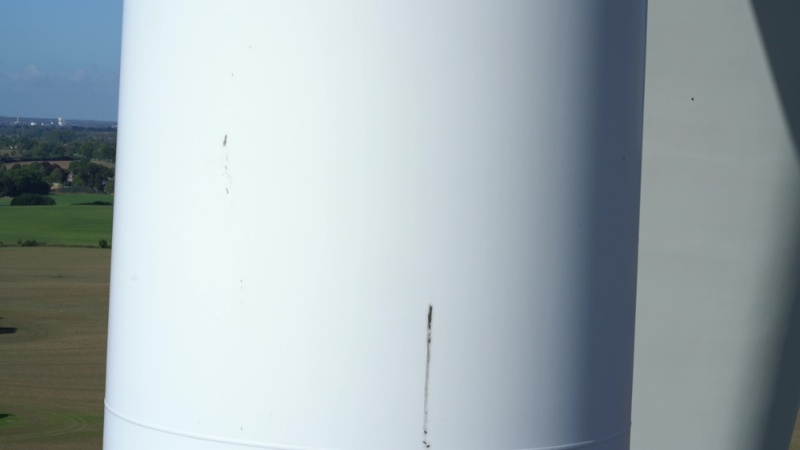weldseam: (103, 396, 357, 450), (493, 419, 634, 450)
